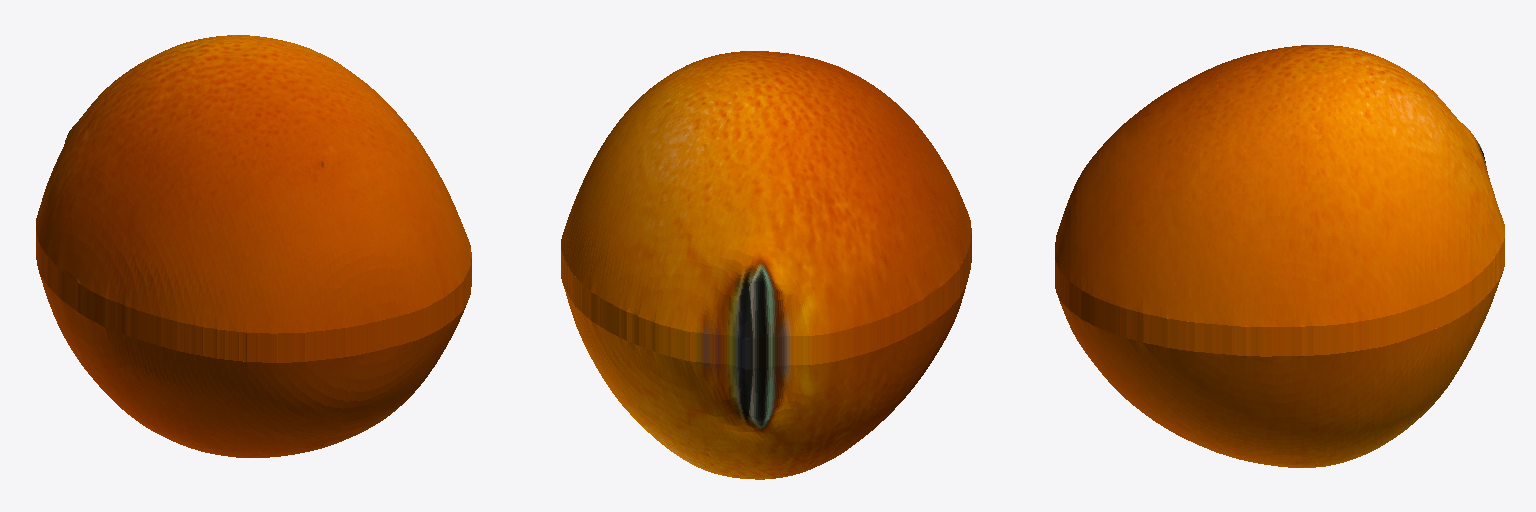
3 renders of one model, left to right at view 1: azimuth 30°, elevation 25°; view 2: azimuth 150°, elevation 25°; view 3: azimuth 270°, elevation 25°, orthographic.
Parts seen in each view (by area): view 1: Grid; view 2: Grid; view 3: Grid.
Part boxes in pixels (left/top/right/bottom): Grid: left=36, top=35, right=471, bottom=457; Grid: left=561, top=51, right=971, bottom=479; Grid: left=1055, top=45, right=1504, bottom=467.
Bounding box in the file's own units: 1.52 × 1.6 × 1.68.
1 materials, 1 textured.